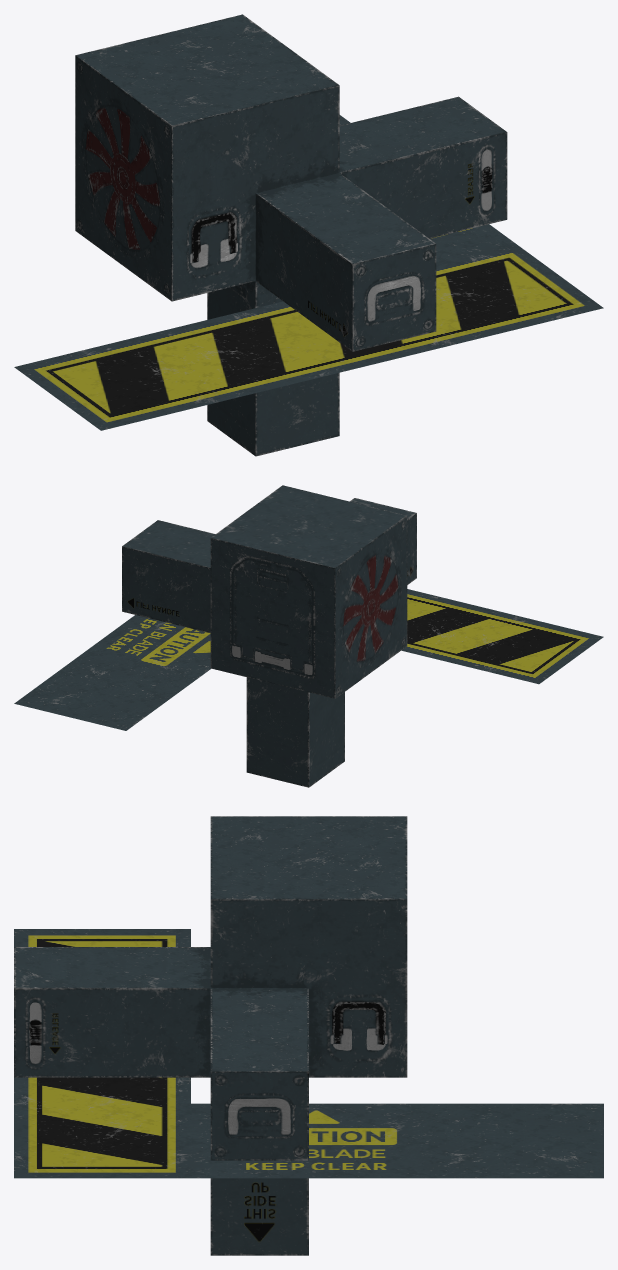
The model's file is Node_NegativeScale_12.gltf.
3 views of the same model, one above another, from view 1: azimuth 30°, elevation 25°; view 2: azimuth 150°, elevation 25°; view 3: azimuth 270°, elevation 25° (orthographic). The views are drawn at different scales.
Parts seen in each view (by area): view 1: Node1, Node0; view 2: Node1, Node0; view 3: Node1, Node0.
Part boxes in pixels (box(x1,y1,x2,y2)): Node1: box(75, 14, 507, 456); Node0: box(14, 115, 603, 430); Node1: box(122, 485, 416, 787); Node0: box(14, 589, 603, 730); Node1: box(14, 816, 407, 1255); Node0: box(14, 929, 603, 1178).
Size of the model in its own units: 15 by 10 by 15.
2 materials, 2 textured.
